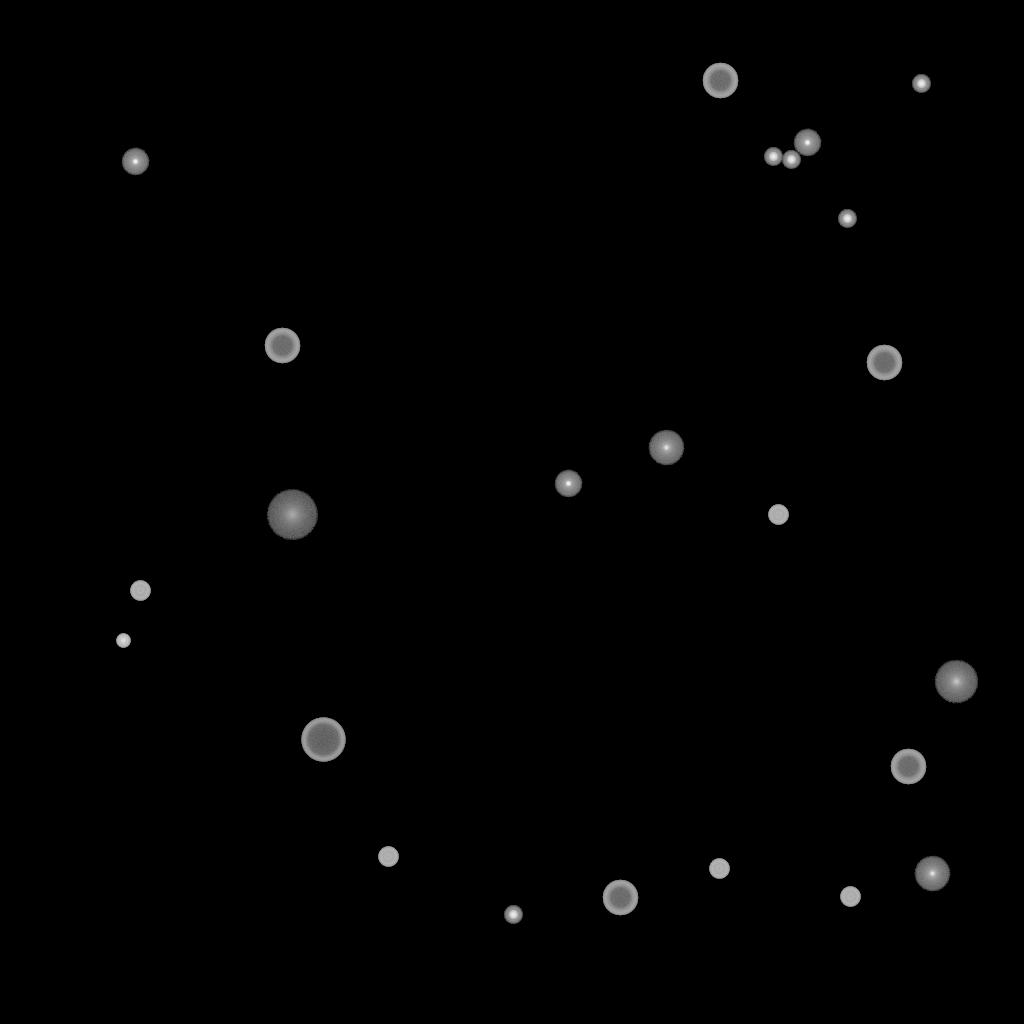depth:-10: (793, 129, 821, 157), (554, 470, 582, 498), (121, 148, 149, 176)
depth:-20: (838, 210, 856, 228), (764, 148, 782, 166), (912, 75, 930, 93), (782, 151, 800, 169), (504, 906, 522, 924)
depth:-30: (116, 634, 130, 648)
depth:-40: (709, 859, 729, 879), (840, 887, 860, 907), (378, 847, 398, 867), (130, 581, 150, 601), (768, 505, 788, 525)
depth:-60: (866, 345, 902, 381), (602, 880, 638, 916), (890, 749, 926, 785), (702, 63, 738, 99), (264, 328, 300, 364)
depth:-70: (301, 718, 345, 762)
depth:0: (914, 856, 950, 892), (648, 430, 684, 466)
depth:10: (934, 660, 978, 704)
depth:20: (266, 490, 318, 540)
